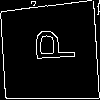P: (25, 27, 75, 64)
